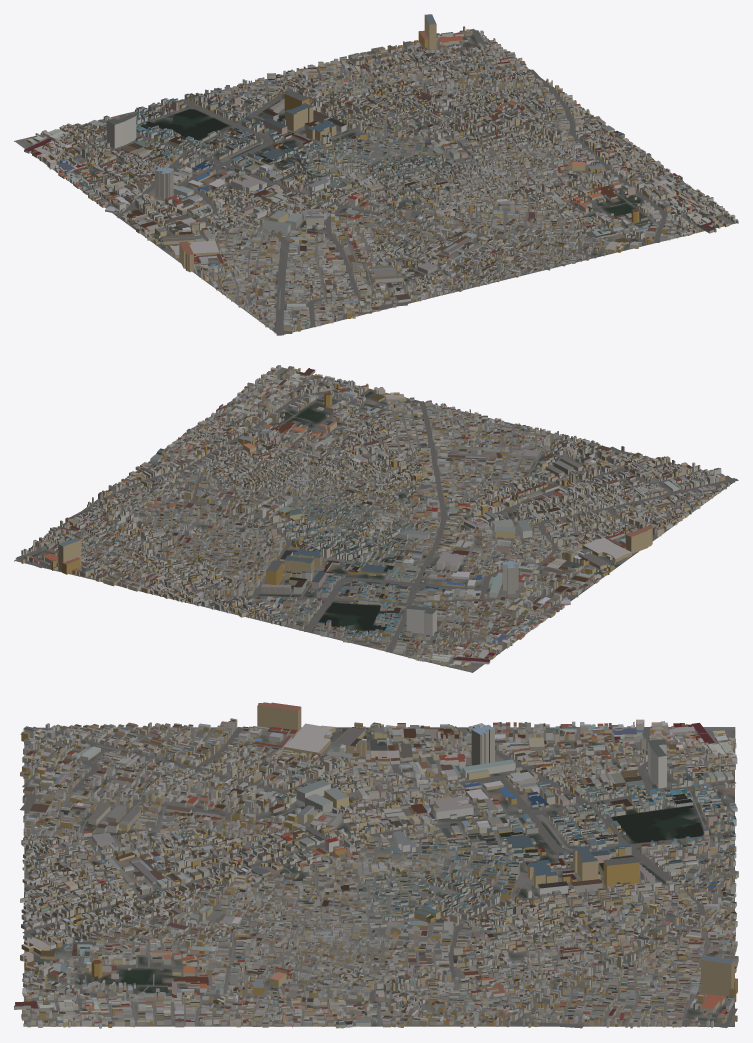
The picture shows the model from 3 angles, top to bottom: view 1: azimuth 30°, elevation 25°; view 2: azimuth 150°, elevation 25°; view 3: azimuth 270°, elevation 25°; orthographic projection. The views are drawn at different scales.
Visible parts, largest first — view 1: buildings, ground, roads, water; view 2: buildings, ground, roads, water; view 3: buildings, ground, roads, water.
Part boxes in pixels (x1=…): buildings: x1=24, y1=14, x2=738, y2=331; ground: x1=14, y1=28, x2=738, y2=334; roads: x1=19, y1=30, x2=723, y2=335; water: x1=155, y1=109, x2=227, y2=140; buildings: x1=21, y1=365, x2=729, y2=667; ground: x1=14, y1=367, x2=732, y2=672; roads: x1=16, y1=375, x2=738, y2=671; water: x1=319, y1=603, x2=380, y2=632; buildings: x1=14, y1=702, x2=738, y2=1028; ground: x1=24, y1=727, x2=735, y2=1026; roads: x1=20, y1=726, x2=737, y2=1028; water: x1=612, y1=805, x2=703, y2=842.
Size of the model in its own units: 1419 by 80.79 by 1428.
